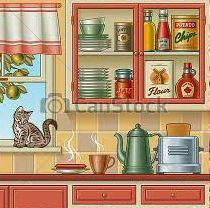bottle: (156, 8, 173, 52), (140, 8, 156, 52)
cat: (11, 103, 60, 148)
